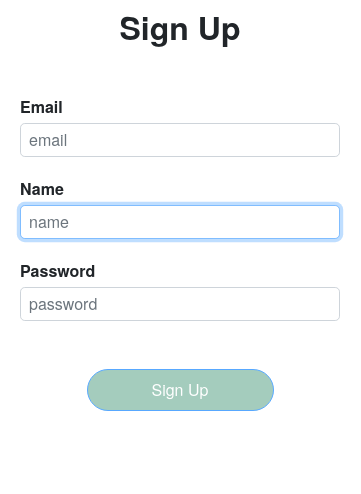
Signup › failure › signup: GraphQL error
The image size is (361, 494).
Type "totally@valid.email" into the field labelled "Email" at (180, 140), box [20,123,340,157]
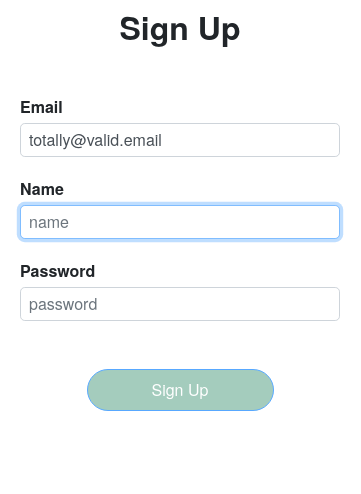
Type "Buckaroo Banzai" into the field labelled "Name" at (180, 222), box [20,205,340,239]
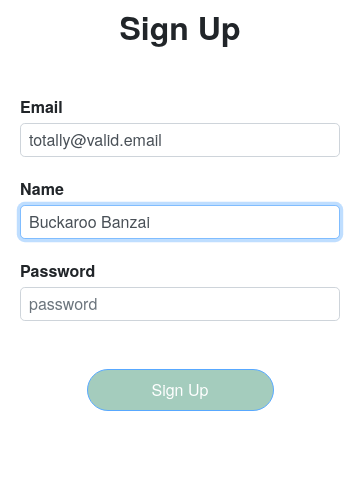
Type "qwerty1!" into the password field labelled "Password" at (180, 304), box [20,287,340,321]
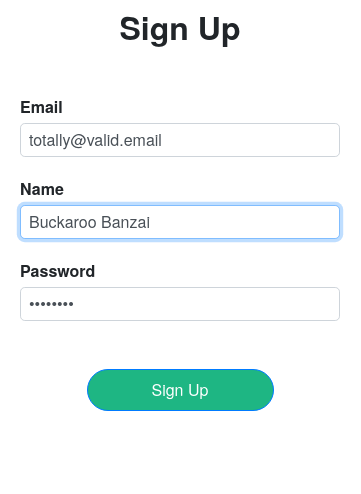
Click the button at (180, 390), box [86,369,274,411]
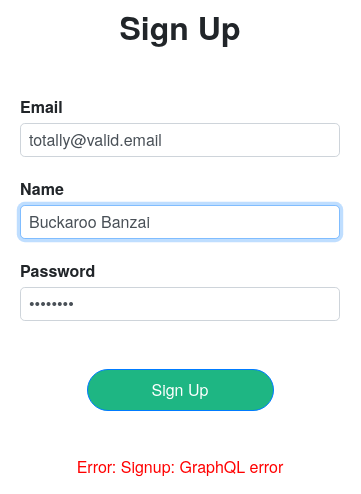
Expected: the text "Error: Signup: GraphQL error" is shown, [77,459,283,475]
